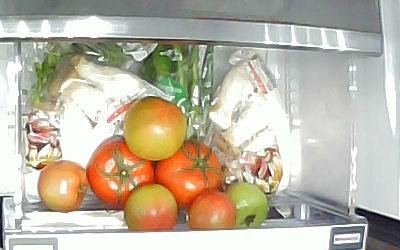tomato: (84, 137, 155, 209), (152, 138, 222, 208), (121, 95, 188, 160), (36, 159, 89, 212), (122, 182, 178, 230), (221, 181, 268, 226), (186, 190, 235, 229)
